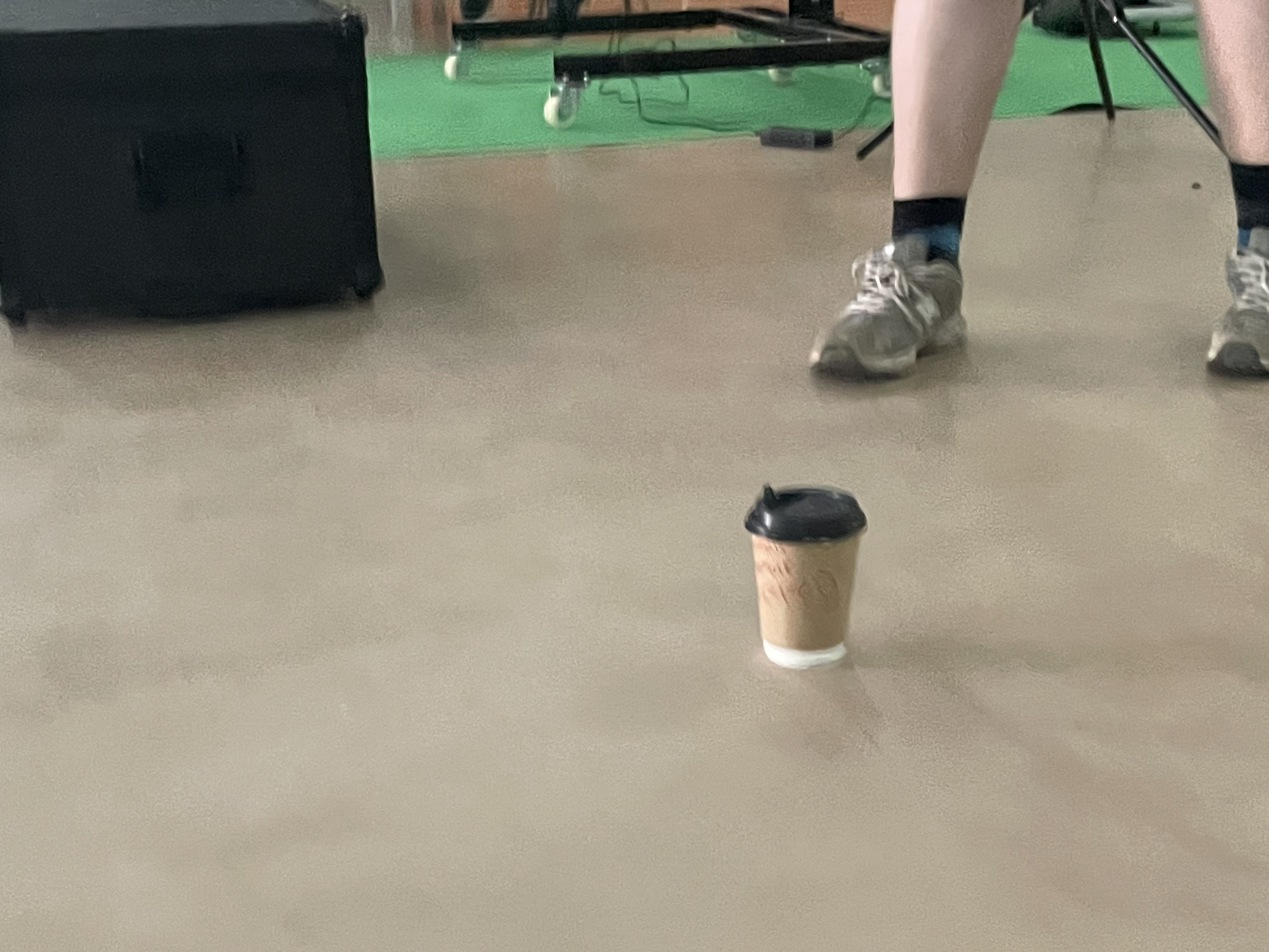cup: (744, 484, 867, 669)
